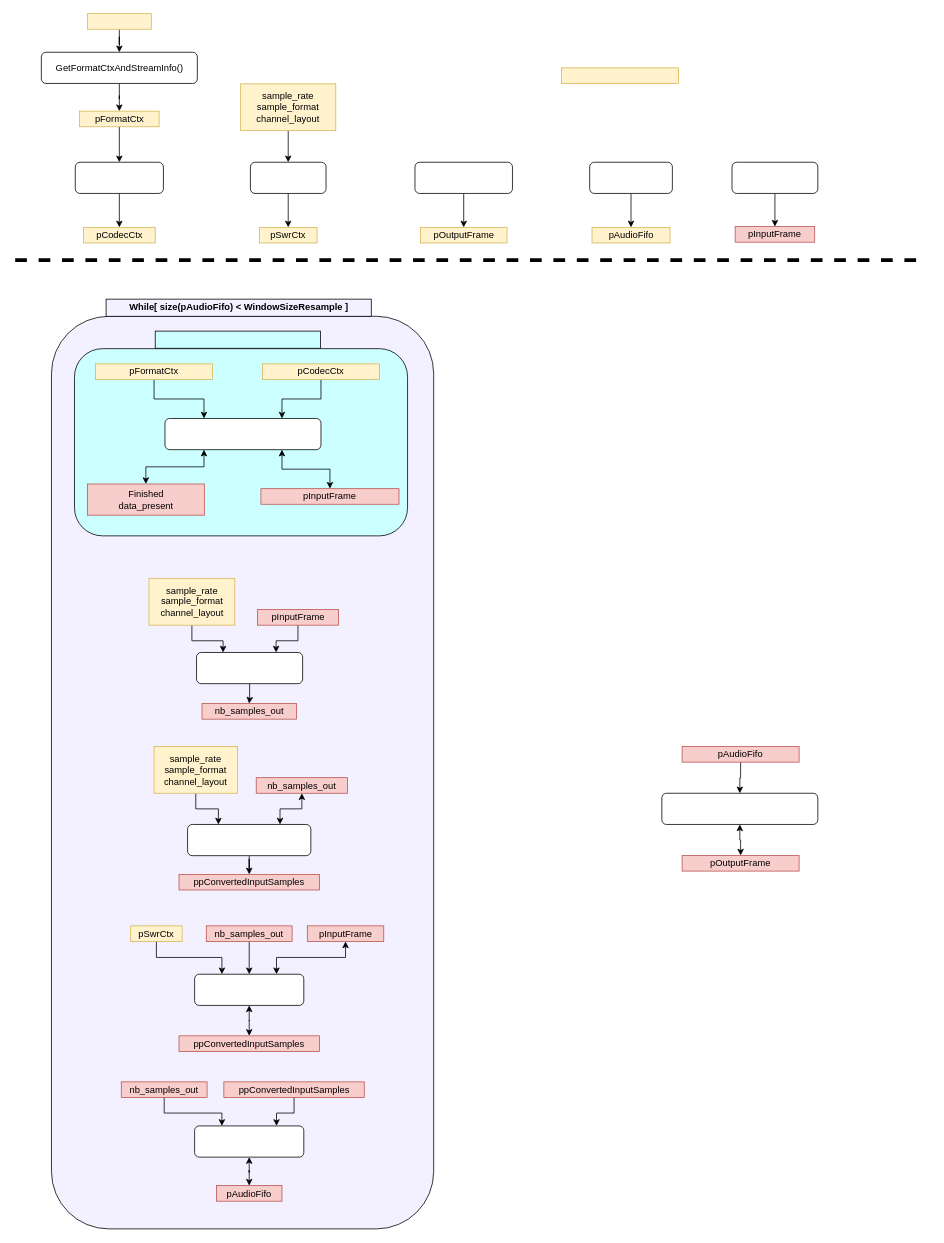
Some shapes in this 944 by 1243 pixel diagram are drawn without their labels. The box of each missing label's shape, as (x1, y1, x2, y2) in pixels:
AddSamplesToFifo(): (194, 1125, 304, 1157)
Audio file: (87, 13, 151, 29)
av_audio_fifo_read(): (661, 792, 818, 824)
ConvertInputFrame(): (194, 973, 304, 1005)
DecodeOneAudioFrame(): (164, 418, 321, 450)
GetCodecCtx(): (74, 161, 163, 193)
GetNbSamplesOut(): (196, 652, 303, 684)
InitAudioFifo(): (589, 161, 672, 193)
InitConvertedSamples(): (187, 824, 311, 856)
InitInputFrame(): (731, 161, 818, 193)
InitOutputFrame(): (414, 161, 512, 193)
InitSwrCtx(): (250, 161, 326, 193)
While[ data_present == false ]: (154, 330, 321, 348)
WindowSizeResampled: (561, 67, 679, 83)
